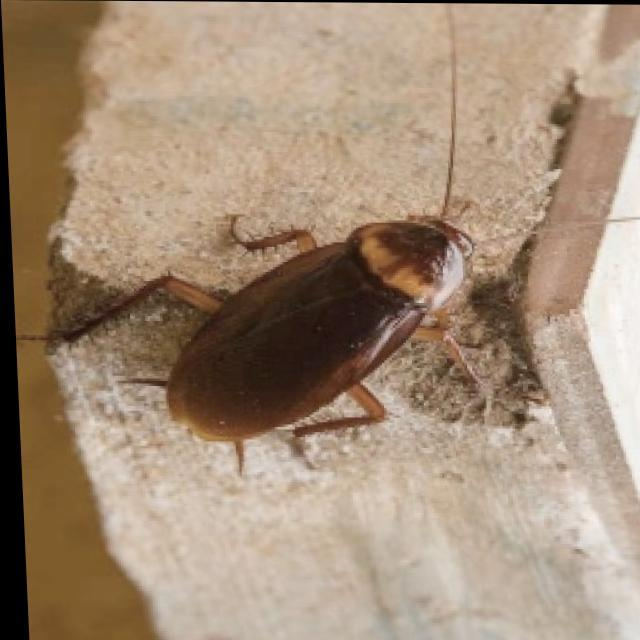cockroach: (78, 191, 560, 501)
